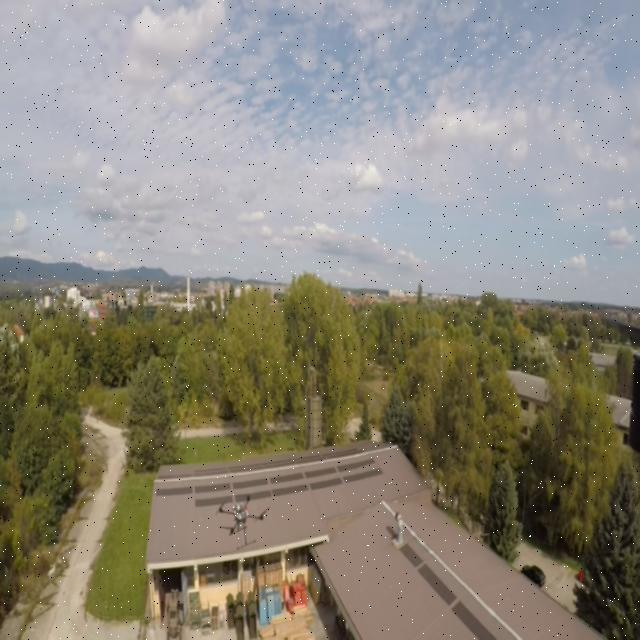UAV: (214, 492, 272, 551)
